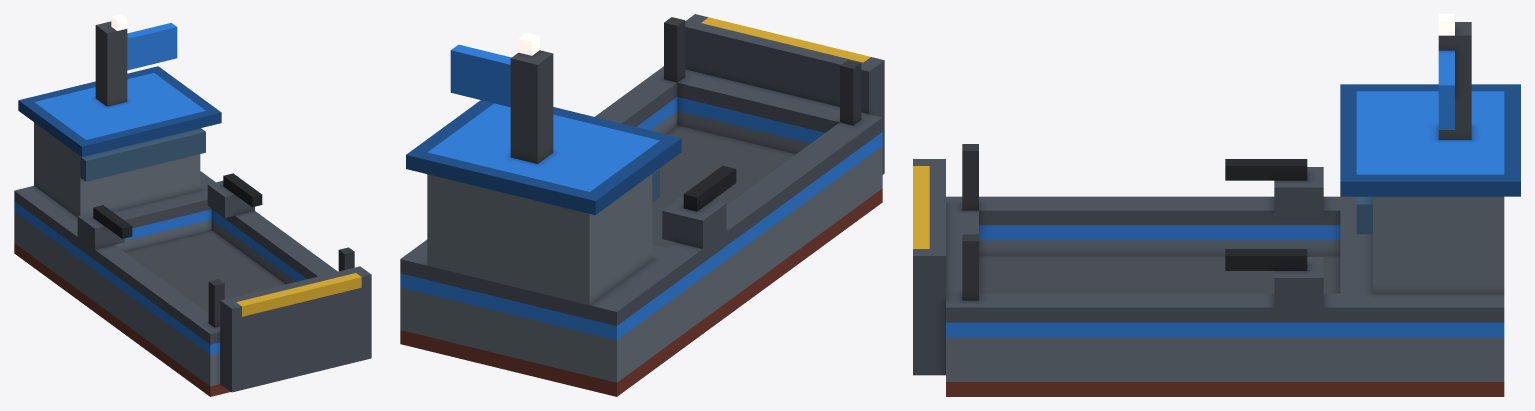
The model's file is cm_transport_1.glb.
3 renders of one model, left to right at view 1: azimuth 30°, elevation 25°; view 2: azimuth 150°, elevation 25°; view 3: azimuth 270°, elevation 25°, orthographic. The views are drawn at different scales.
Parts seen in each view (by area): view 1: cm_transport_1_body; view 2: cm_transport_1_body; view 3: cm_transport_1_body.
Part boxes in pixels (x1,y1,x2,y2): cm_transport_1_body: (14,14,371,396); cm_transport_1_body: (400,14,884,396); cm_transport_1_body: (913,14,1520,396).
Size of the model in its own units: 1 by 1.38 by 2.31.
1 material, 1 textured.
